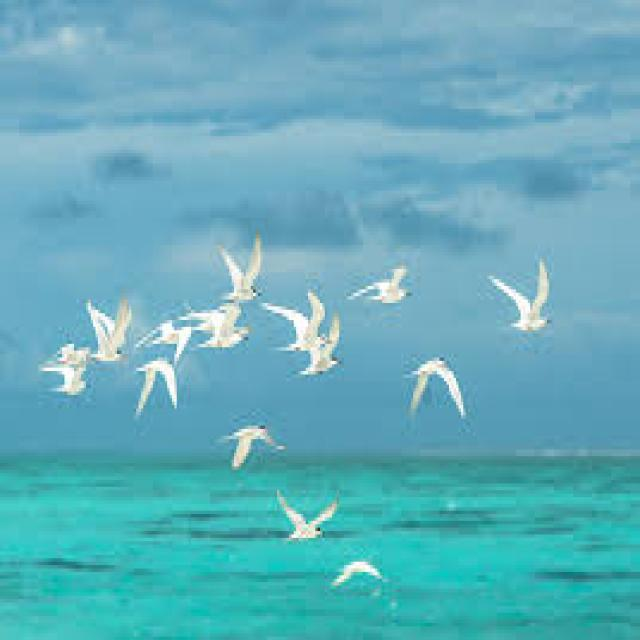bird: (476, 242, 574, 372), (393, 342, 486, 448), (38, 320, 110, 439), (76, 277, 144, 383), (342, 240, 429, 318), (266, 476, 348, 558), (202, 211, 266, 310), (204, 414, 294, 482), (191, 296, 272, 364), (261, 286, 339, 356), (126, 350, 196, 426), (306, 313, 364, 398), (140, 301, 206, 368), (324, 544, 394, 600)
